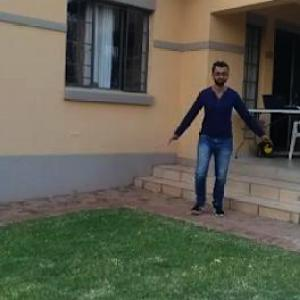land: (162, 68, 262, 225)
